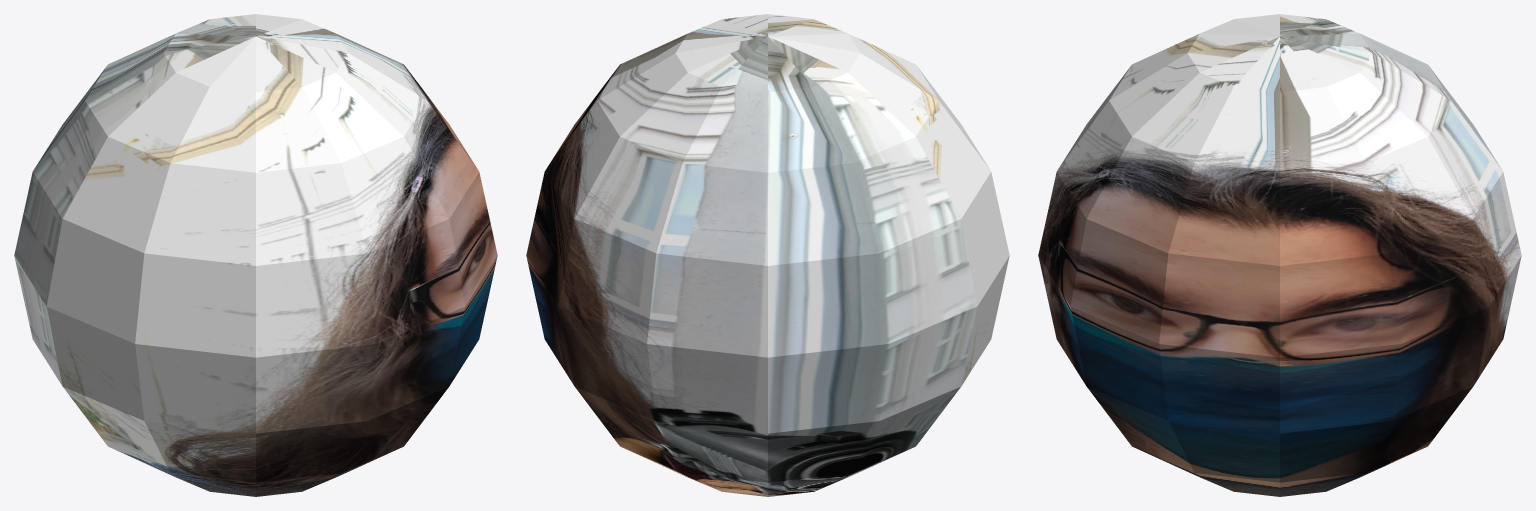
Rendered from DefaultBall.fbx.
3 views of the same model, side by side, from view 1: azimuth 30°, elevation 25°; view 2: azimuth 150°, elevation 25°; view 3: azimuth 270°, elevation 25° (orthographic).
Visible parts, largest first — view 1: Sphere; view 2: Sphere; view 3: Sphere.
Part boxes in pixels (<box>): Sphere: <box>14,14,497,496</box>; Sphere: <box>526,14,1009,496</box>; Sphere: <box>1038,14,1521,496</box>.
Size of the model in its own units: 200 by 200 by 200.
